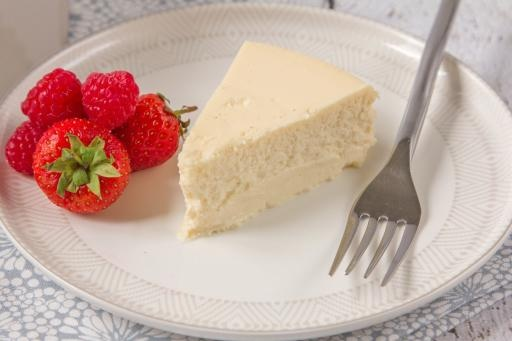background: (3, 22, 304, 128)
